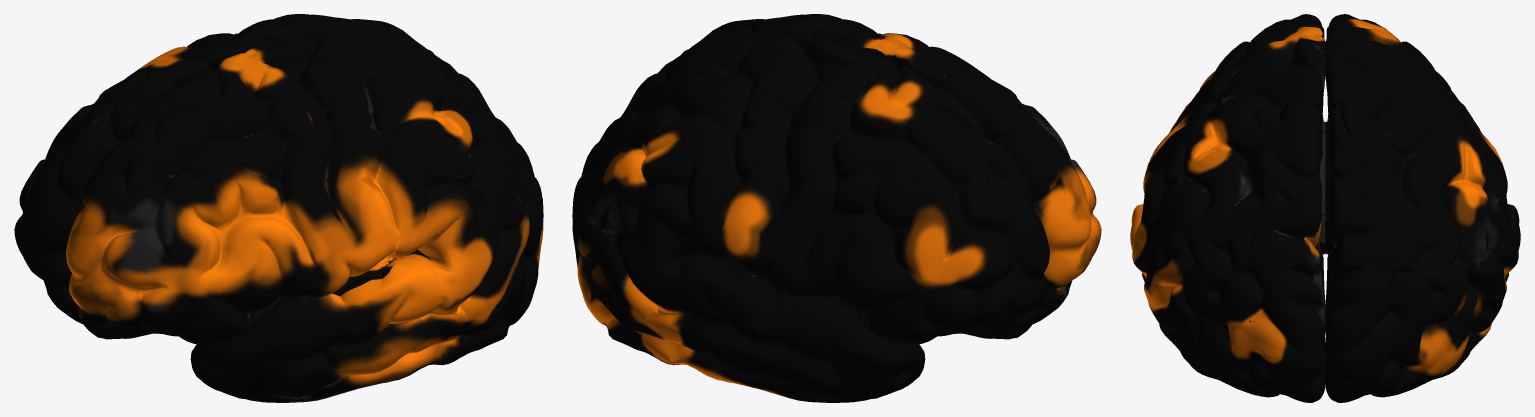
File: feetComp.glb
The picture shows the model from 3 angles, left to right: view 1: azimuth 30°, elevation 25°; view 2: azimuth 150°, elevation 25°; view 3: azimuth 270°, elevation 25°; orthographic projection. The views are drawn at different scales.
Visible parts, largest first — view 1: Right, Left; view 2: Left, Right; view 3: Left, Right.
Part boxes in pixels (left/top/right/bottom): Right: left=66, top=32, right=543, bottom=402; Left: left=14, top=14, right=457, bottom=336; Left: left=572, top=32, right=1049, bottom=402; Right: left=658, top=14, right=1101, bottom=336; Left: left=1325, top=14, right=1520, bottom=402; Right: left=1130, top=14, right=1325, bottom=402.
Bounding box in the file's own units: 1.32 × 0.8372 × 1.06.
Materials: 2 (2 with a texture image).
